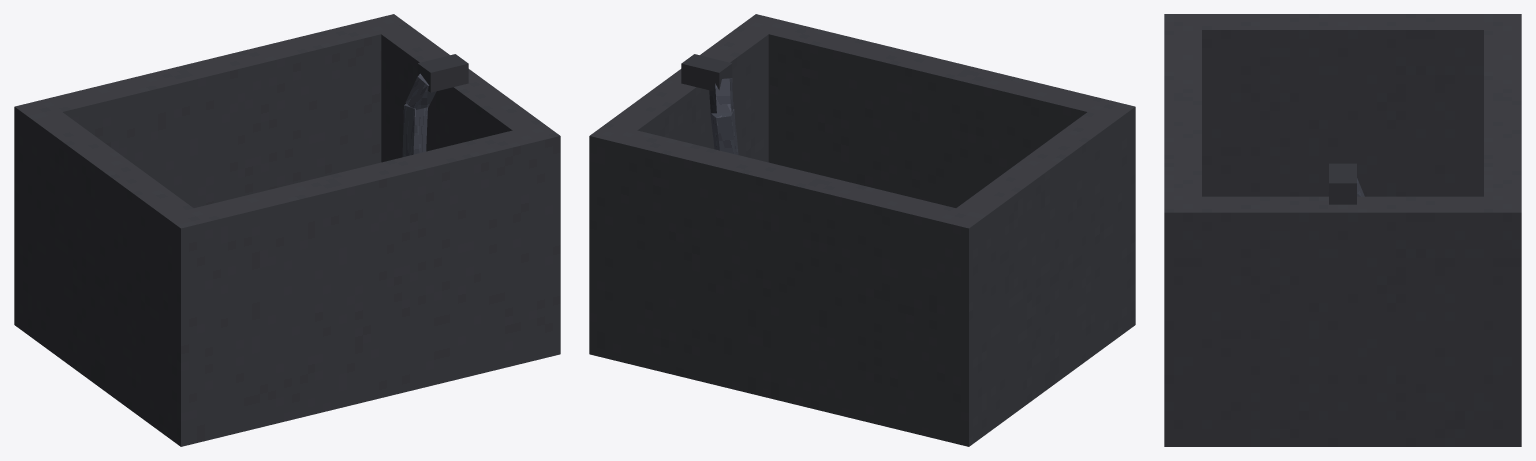
The model's file is f_vitrified_bathtub.glb.
The picture shows the model from 3 angles, left to right: view 1: azimuth 30°, elevation 25°; view 2: azimuth 150°, elevation 25°; view 3: azimuth 270°, elevation 25°; orthographic projection. The views are drawn at different scales.
Visible parts, largest first — view 1: block_b, block_f, block_l, block_r, block_faucet, block_frozen-onyx-pouring-column-2, block_frozen-onyx-pouring-column-1; view 2: block_f, block_b, block_l, block_r, block_faucet, block_frozen-onyx-pouring-column-2, block_frozen-onyx-pouring-column-1; view 3: block_r, block_l, block_f, block_b, block_faucet.
Boxes of the visible parts, <box> form: block_b: <box>163,123,560,446</box>; block_f: <box>14,14,411,337</box>; block_l: <box>32,112,193,433</box>; block_r: <box>381,27,542,162</box>; block_faucet: <box>417,54,468,92</box>; block_frozen-onyx-pouring-column-2: <box>402,103,427,156</box>; block_frozen-onyx-pouring-column-1: <box>405,73,436,109</box>; block_f: <box>589,123,986,446</box>; block_b: <box>738,14,1135,337</box>; block_l: <box>956,112,1117,433</box>; block_r: <box>607,27,768,162</box>; block_faucet: <box>681,54,732,90</box>; block_frozen-onyx-pouring-column-2: <box>710,109,738,154</box>; block_frozen-onyx-pouring-column-1: <box>709,78,733,113</box>; block_r: <box>1202,196,1483,446</box>; block_l: <box>1202,14,1483,196</box>; block_f: <box>1484,14,1521,446</box>; block_b: <box>1164,14,1201,446</box>; block_faucet: <box>1329,163,1356,204</box>.
Size of the model in its own units: 1 by 0.6 by 0.76.
Materials: 2 (2 with a texture image).
